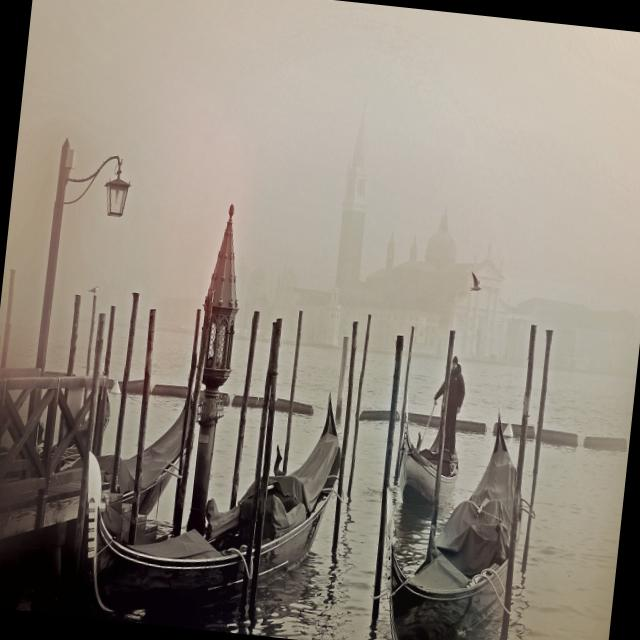boat: (61, 359, 355, 640), (373, 386, 544, 640)
